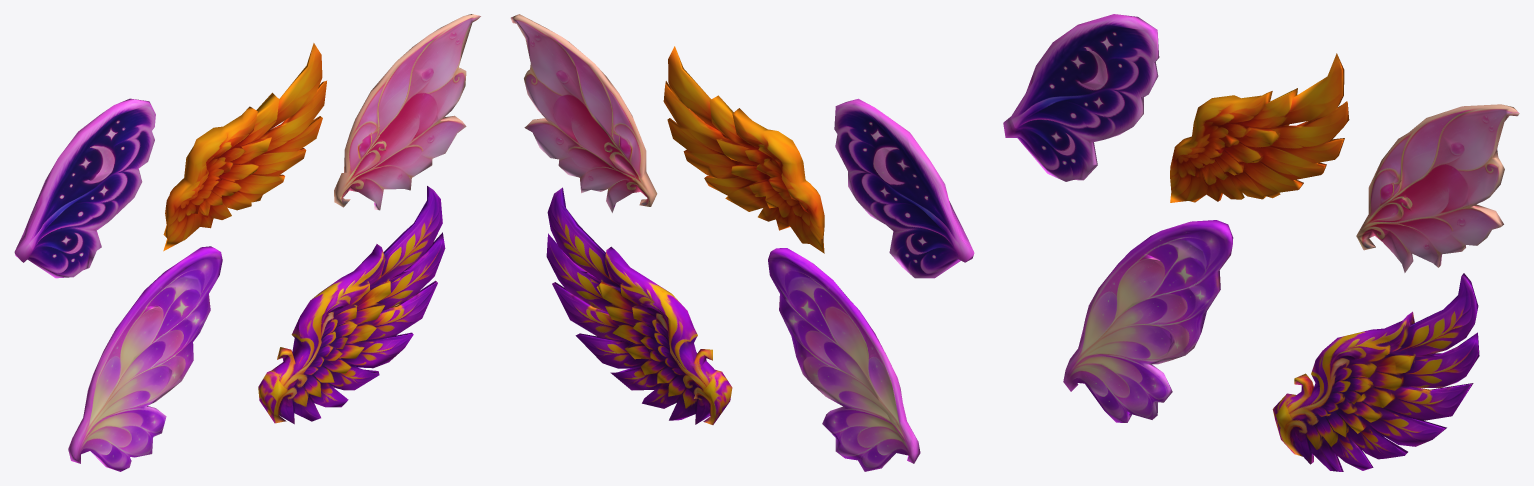
Rendered from fantasy_wings.glb.
3 renders of one model, left to right at view 1: azimuth 30°, elevation 25°; view 2: azimuth 150°, elevation 25°; view 3: azimuth 330°, elevation 25°, orthographic. The views are drawn at different scales.
Parts seen in each view (by area): view 1: tripo_node_88ac838e-30fe-44f1-9c10-a025a0cbd7a9; view 2: tripo_node_88ac838e-30fe-44f1-9c10-a025a0cbd7a9; view 3: tripo_node_88ac838e-30fe-44f1-9c10-a025a0cbd7a9.
Part boxes in pixels (bbox=[...]): tripo_node_88ac838e-30fe-44f1-9c10-a025a0cbd7a9: bbox=[14, 14, 480, 471]; tripo_node_88ac838e-30fe-44f1-9c10-a025a0cbd7a9: bbox=[510, 14, 974, 471]; tripo_node_88ac838e-30fe-44f1-9c10-a025a0cbd7a9: bbox=[1003, 14, 1519, 471].
Size of the model in its own units: 1 by 0.7796 by 0.0578.
Materials: 1 (1 with a texture image).
